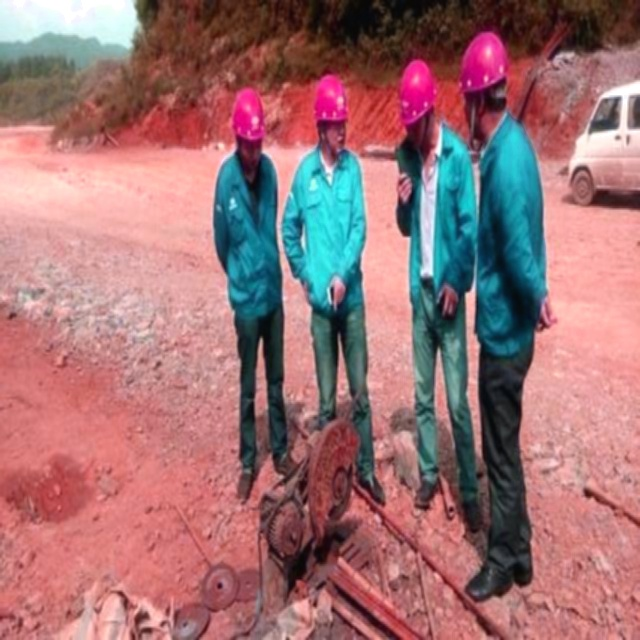Con_Casco: (399, 54, 437, 143), (311, 72, 348, 153)
